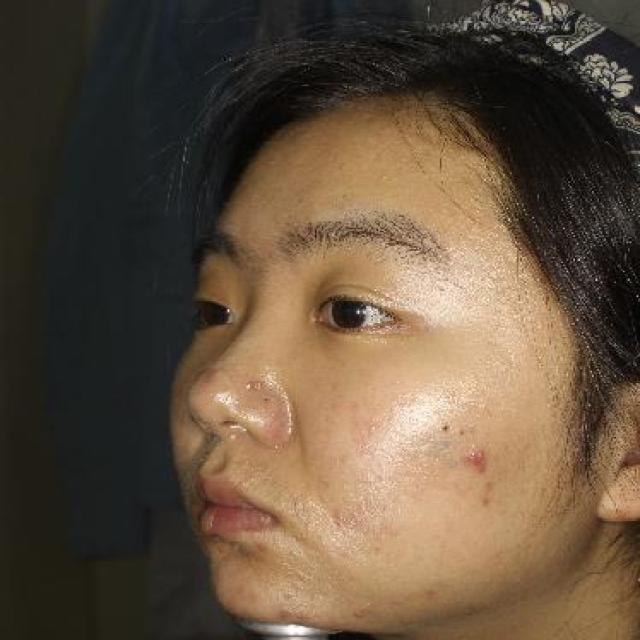papules: (200, 363, 234, 383)
pustules: (460, 445, 491, 469), (236, 377, 274, 394)
